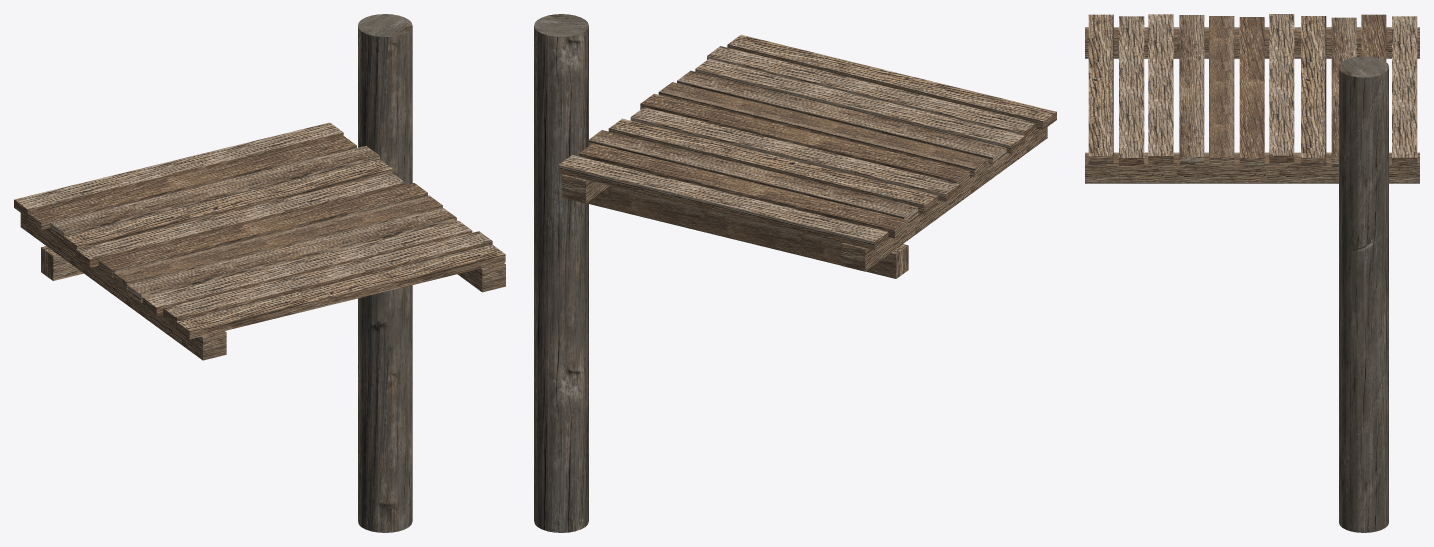
File: Plataformas.fbx
3 renders of one model, left to right at view 1: azimuth 30°, elevation 25°; view 2: azimuth 150°, elevation 25°; view 3: azimuth 270°, elevation 25°, orthographic. The views are drawn at different scales.
Visible parts, largest first — view 1: Plataforma 4x4, Columna, viga; view 2: Plataforma 4x4, Columna, viga; view 3: Plataforma 4x4, Columna.
Part boxes in pixels (x1=…): Plataforma 4x4: x1=14, y1=122, x2=505, y2=360; Columna: x1=358, y1=14, x2=412, y2=532; viga: x1=41, y1=246, x2=83, y2=280; Plataforma 4x4: x1=558, y1=35, x2=1056, y2=271; Columna: x1=534, y1=14, x2=588, y2=532; viga: x1=586, y1=185, x2=908, y2=278; Plataforma 4x4: x1=1085, y1=14, x2=1419, y2=183; Columna: x1=1339, y1=56, x2=1388, y2=532.
Bounding box in the file's own units: 470 × 600 × 400.
Materials: 2 (2 with a texture image).
